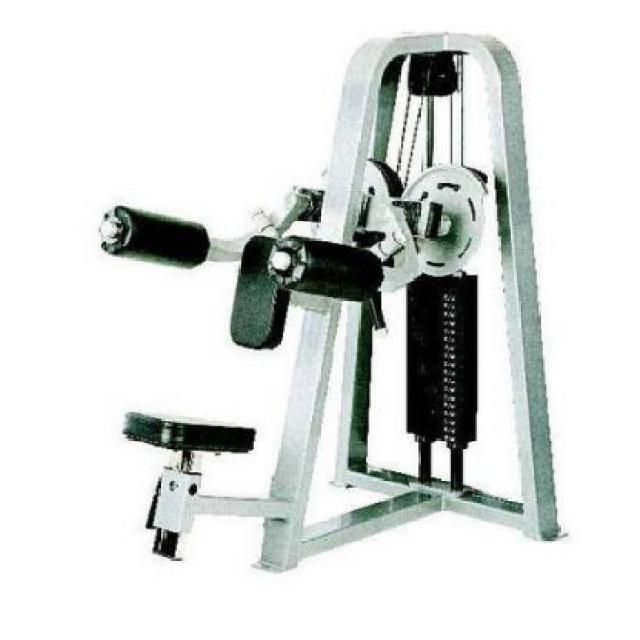lateral raises machine: (97, 32, 568, 577)
